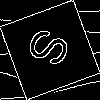S: (25, 25, 81, 74)
